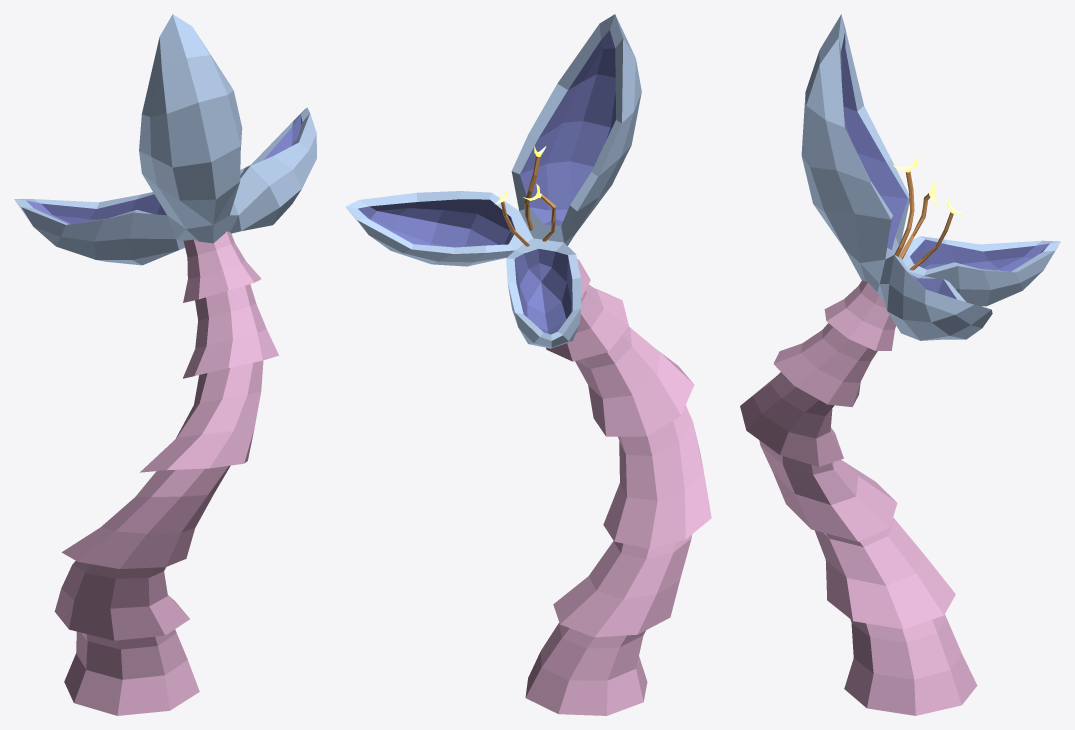
Rendered from Tree_10_Var_04.fbx.
3 views of the same model, side by side, from view 1: azimuth 30°, elevation 25°; view 2: azimuth 150°, elevation 25°; view 3: azimuth 270°, elevation 25° (orthographic). The views are drawn at different scales.
Visible parts, largest first — view 1: Tree_10_Var_04; view 2: Tree_10_Var_04; view 3: Tree_10_Var_04.
Boxes of the visible parts, box(x1,y1,x2,y2) form: Tree_10_Var_04: box(14, 14, 316, 715); Tree_10_Var_04: box(345, 14, 711, 715); Tree_10_Var_04: box(740, 14, 1060, 715).
Size of the model in its own units: 1.91 by 4.45 by 2.08.
